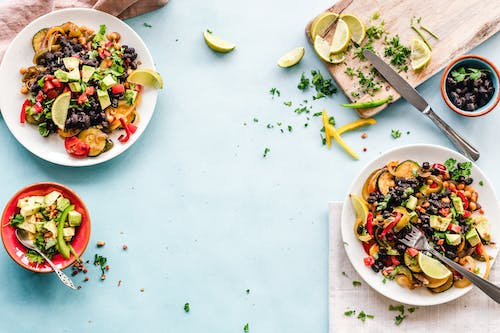knife: (361, 48, 482, 164)
